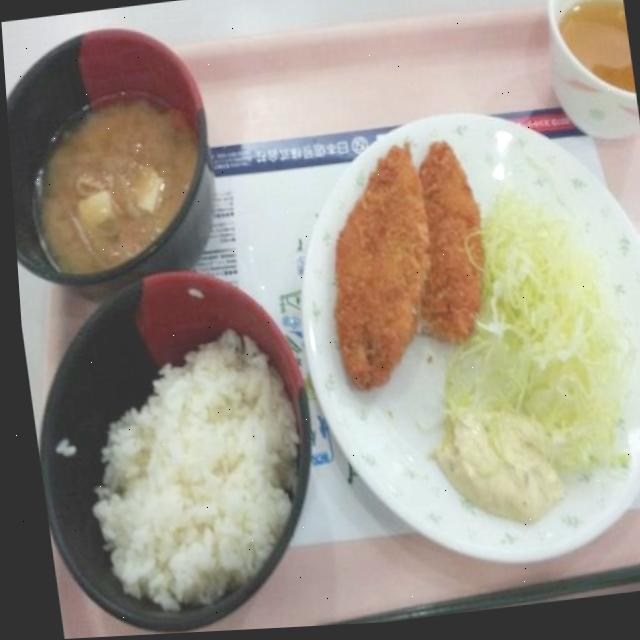炸货点心: (304, 131, 495, 395)
米饭主食: (15, 268, 329, 640)
